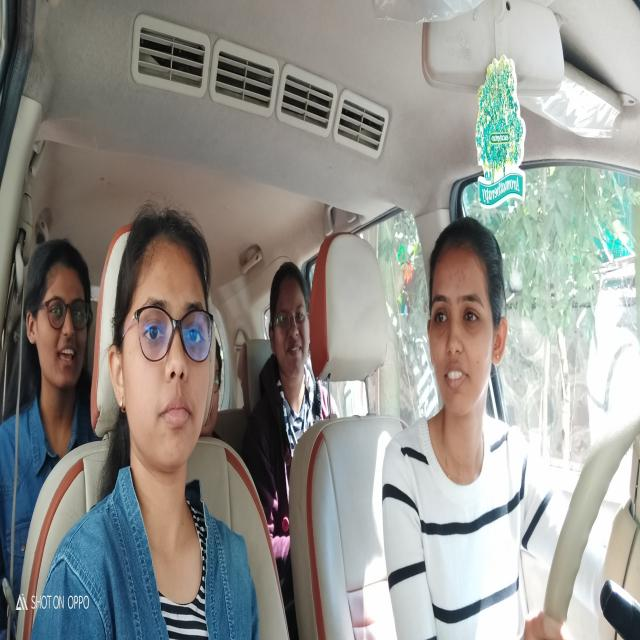LeftRight: (419, 212, 508, 434)
person: (110, 202, 216, 479), (24, 234, 94, 419), (267, 265, 312, 378), (212, 331, 223, 441)
